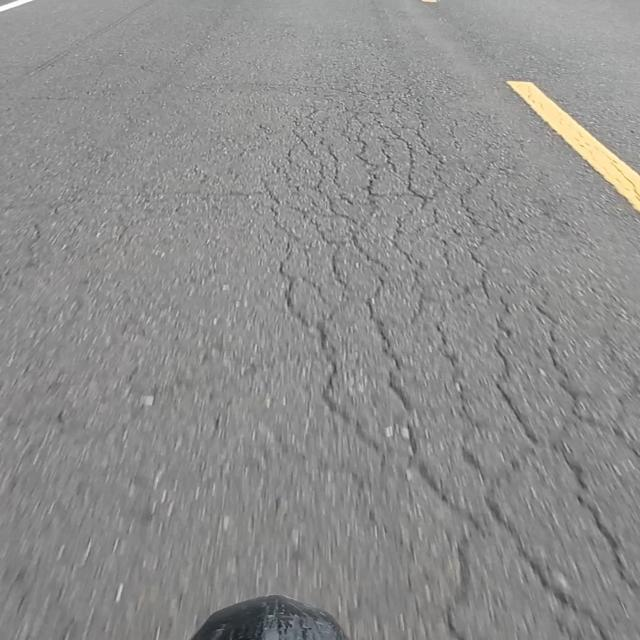Retak Buaya: (254, 112, 640, 640)
